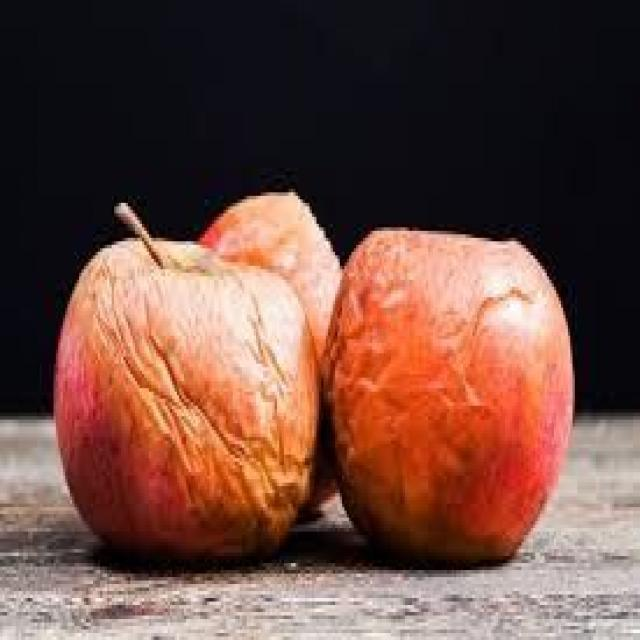Rotten: (323, 215, 582, 595), (60, 238, 338, 587)
